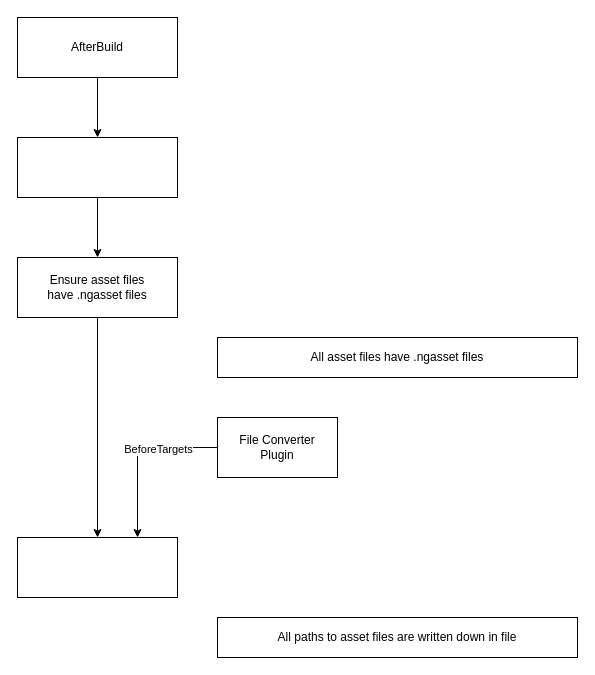
This 595x675 diagram has some shape labels left out. Each missing label, with the centre of its shape:
Find File Endings: (97,167)
NGameAssetsWriteList: (97,567)
